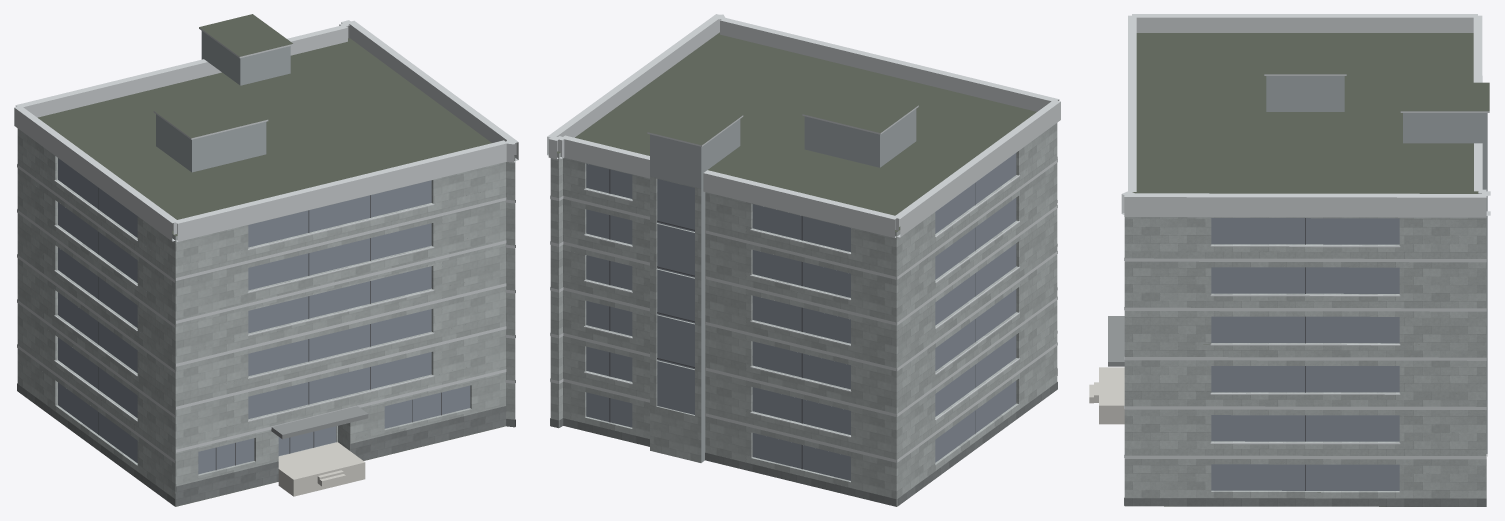
3 renders of one model, left to right at view 1: azimuth 30°, elevation 25°; view 2: azimuth 150°, elevation 25°; view 3: azimuth 270°, elevation 25°, orthographic. The views are drawn at different scales.
Parts seen in each view (by area): view 1: b64__wall, b64__roof, b64__glass, b64__trim, b64__base, b64__wall2, b64__entranceStair, b64__canopy, b64__frame; view 2: b64__wall, b64__glass, b64__roof, b64__trim, b64__wall2, b64__base, b64__frame; view 3: b64__wall, b64__roof, b64__glass, b64__trim, b64__wall2, b64__base, b64__entranceStair, b64__canopy.
Boxes of the visible parts, <box> form: b64__wall: <box>17,128,515,506</box>; b64__roof: <box>38,14,514,506</box>; b64__glass: <box>58,158,470,474</box>; b64__trim: <box>14,20,518,462</box>; b64__base: <box>17,383,515,506</box>; b64__wall2: <box>156,31,290,172</box>; b64__entranceStair: <box>278,442,365,496</box>; b64__canopy: <box>271,406,368,439</box>; b64__frame: <box>98,188,441,470</box>; b64__wall: <box>550,123,1057,506</box>; b64__glass: <box>586,153,1016,480</box>; b64__roof: <box>557,32,1036,232</box>; b64__trim: <box>547,14,1060,462</box>; b64__wall2: <box>650,109,916,462</box>; b64__base: <box>550,368,1057,506</box>; b64__frame: <box>609,169,975,469</box>; b64__wall: <box>1124,217,1486,498</box>; b64__roof: <box>1132,33,1489,506</box>; b64__glass: <box>1211,218,1399,490</box>; b64__trim: <box>1121,14,1490,459</box>; b64__wall2: <box>1266,76,1487,453</box>; b64__base: <box>1124,497,1486,506</box>; b64__entranceStair: <box>1089,367,1124,424</box>; b64__canopy: <box>1108,316,1124,366</box>.
Size of the model in its own units: 28.77 by 25.43 by 26.59.
Materials: 10 (2 with a texture image).
